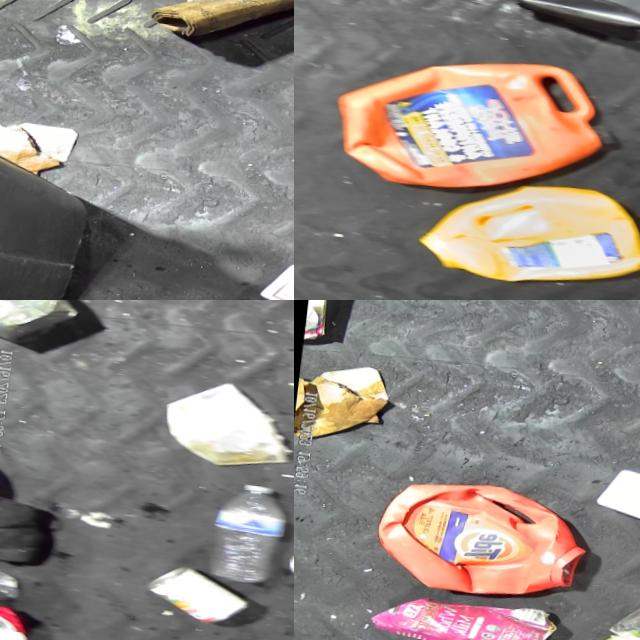can: (144, 561, 260, 627), (0, 300, 93, 348), (600, 579, 640, 640)
non_white_jug: (320, 36, 615, 208), (373, 467, 599, 613), (410, 165, 640, 294)
plastic_bottle: (203, 472, 294, 586)
